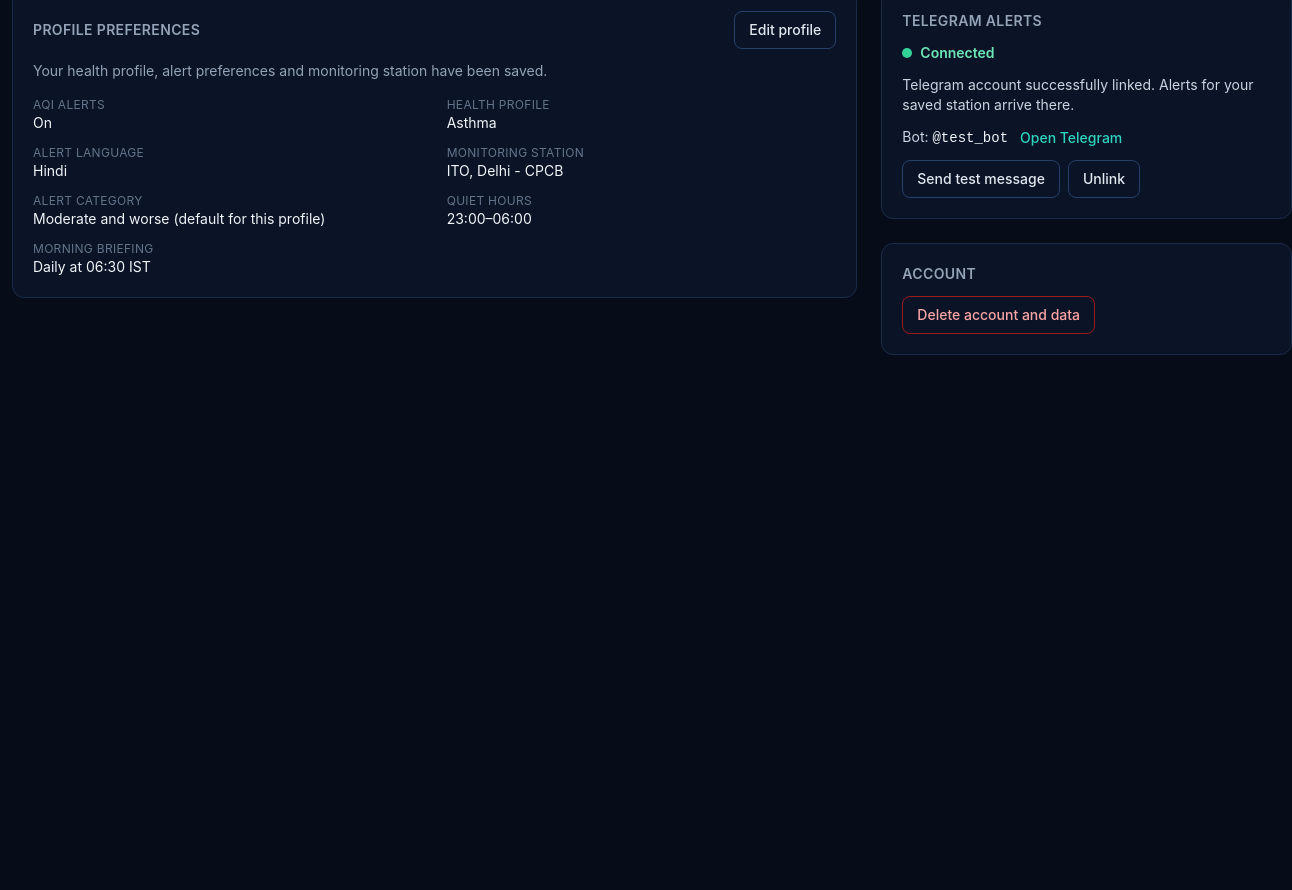
Test: Profile page: collapsible saved settings › saving collapses the form only after the backend confirms, and shows a fading success message
Later steps or results of the test are not shown.
Click the button "Edit profile" at (785, 30), box [734,11,836,49]
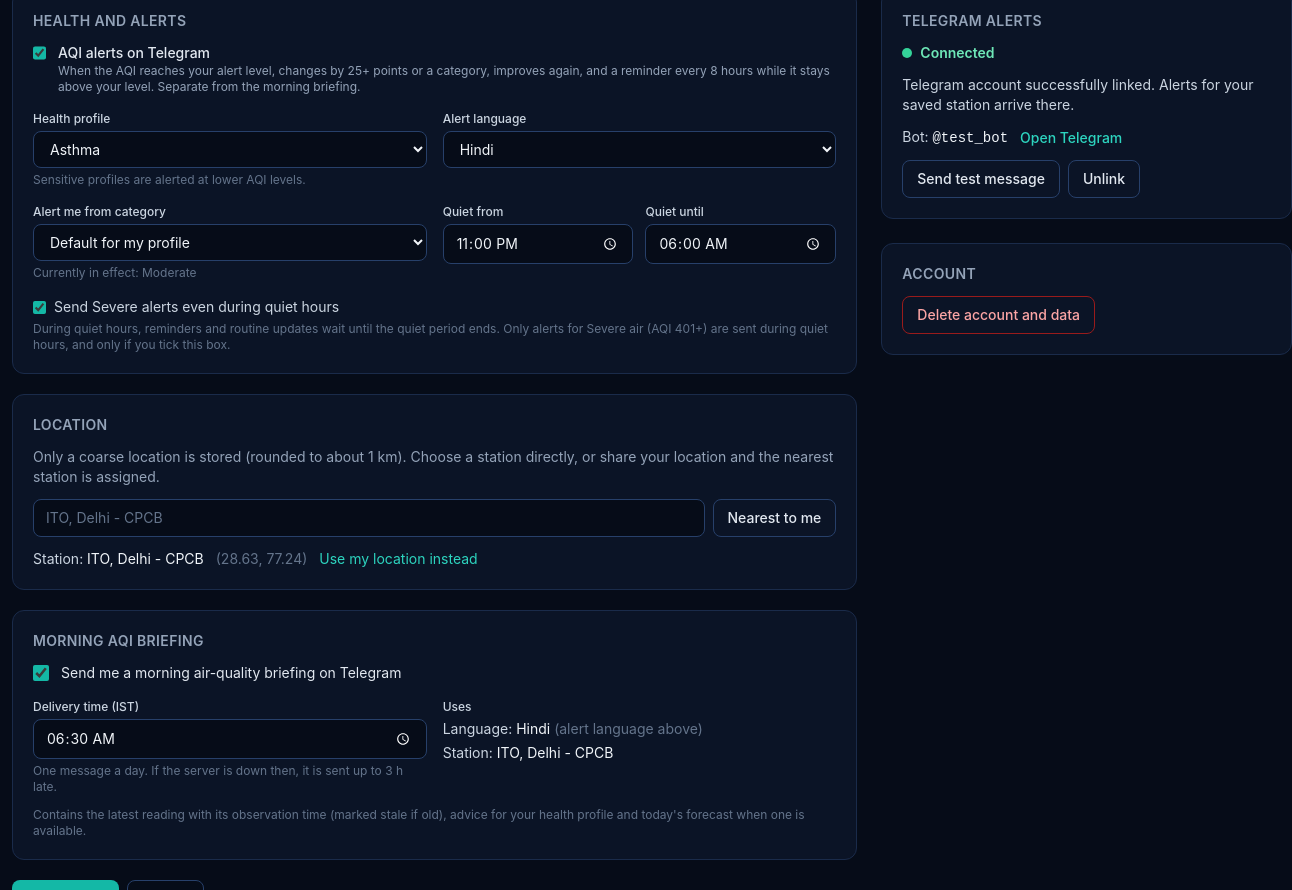
Select "Elderly" in the dropdown labelled "Health profile" at (230, 150), box [33,131,427,168]
(page scrolled)
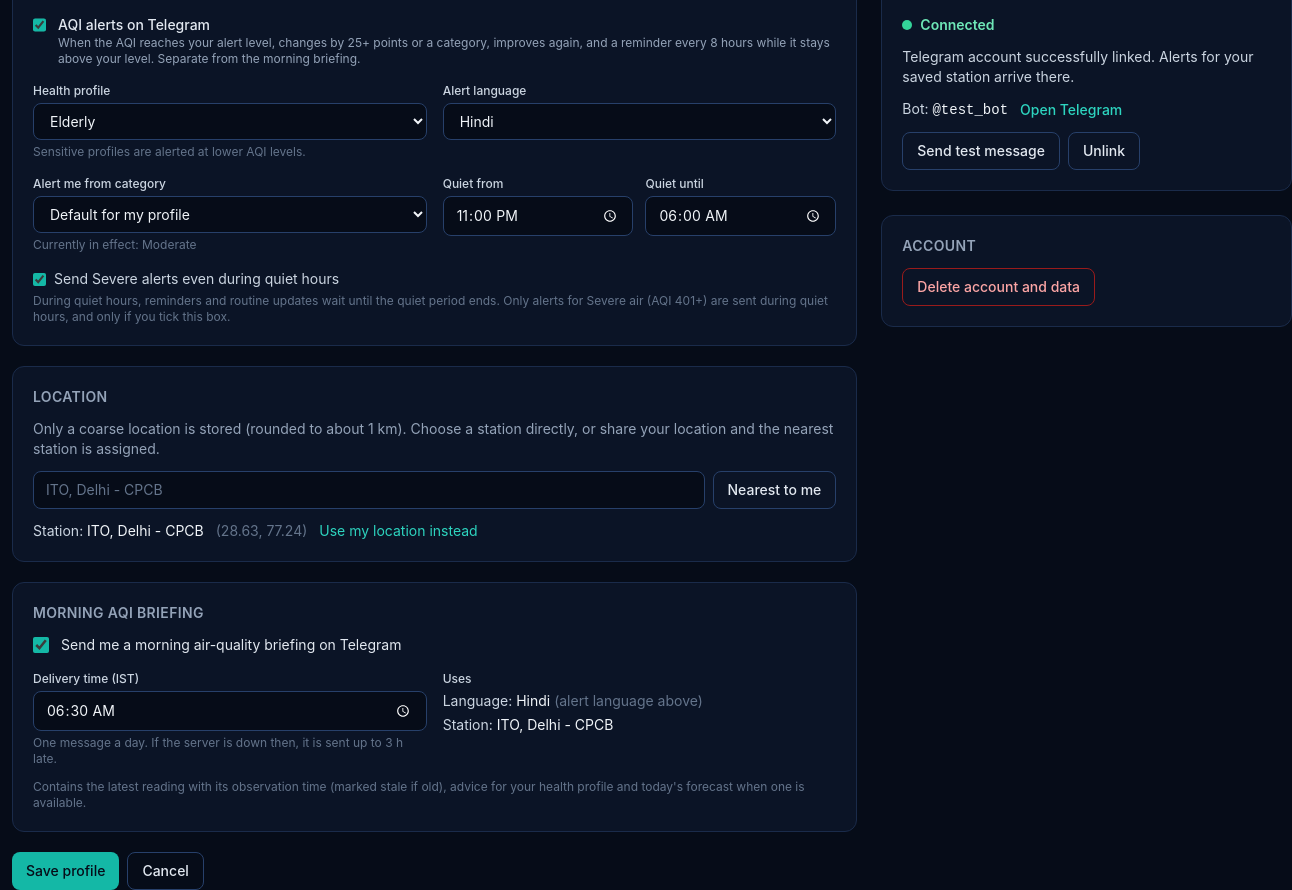
Click the button "Save profile" at (66, 871), box [12,852,119,889]
Wait 5000 ms
(page scrolled)
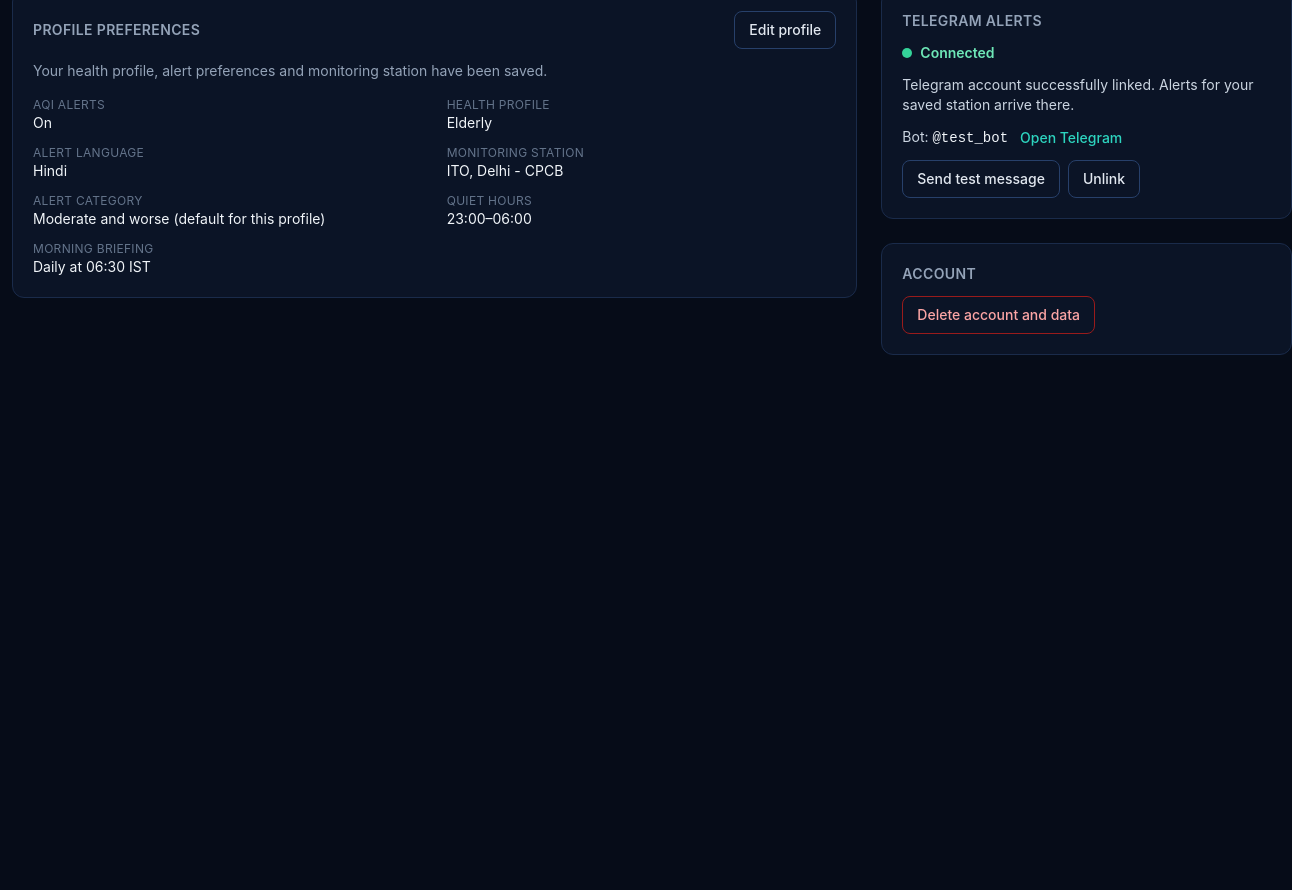
Expected: the text "Elderly" is shown, [447,114,492,131]
